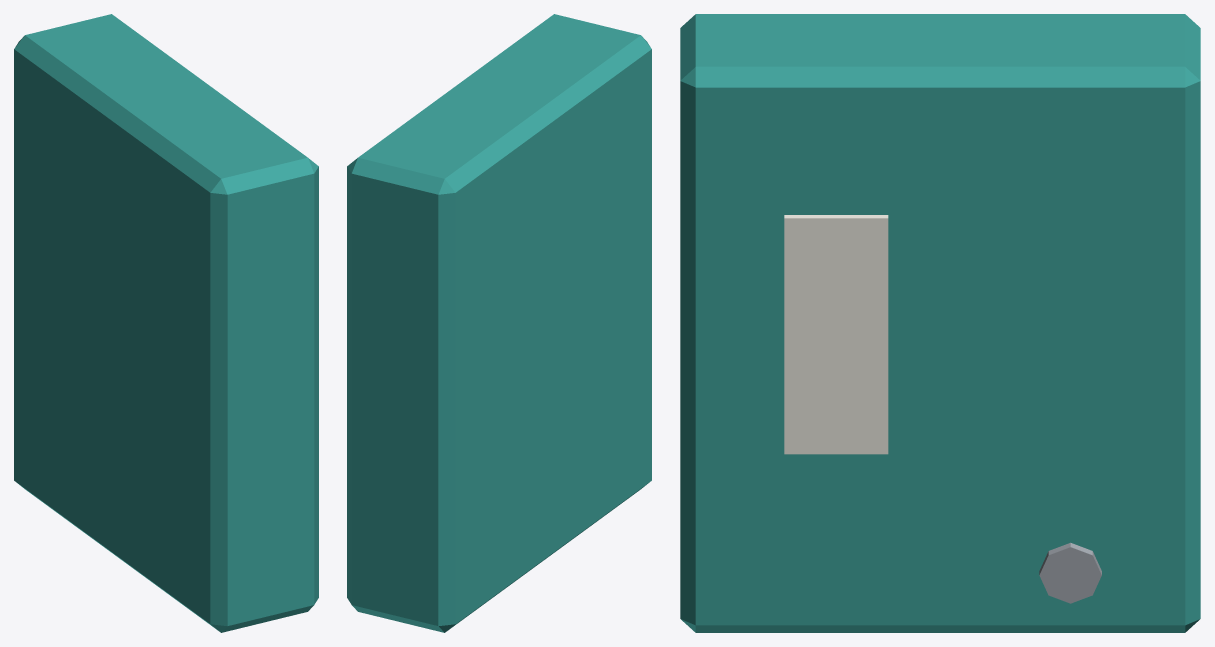
Rendered from prop_delegation_p2.glb.
The picture shows the model from 3 angles, left to right: view 1: azimuth 30°, elevation 25°; view 2: azimuth 150°, elevation 25°; view 3: azimuth 270°, elevation 25°; orthographic projection. The views are drawn at different scales.
Visible parts, largest first — view 1: prop_delegation_p2_mesh; view 2: prop_delegation_p2_mesh; view 3: prop_delegation_p2_mesh.
Boxes of the visible parts, x1,y1,x2,y2 form: prop_delegation_p2_mesh: [14, 14, 318, 632]; prop_delegation_p2_mesh: [347, 14, 651, 632]; prop_delegation_p2_mesh: [680, 14, 1200, 632].
Bounding box in the file's own units: 0.066 × 0.24 × 0.2.
